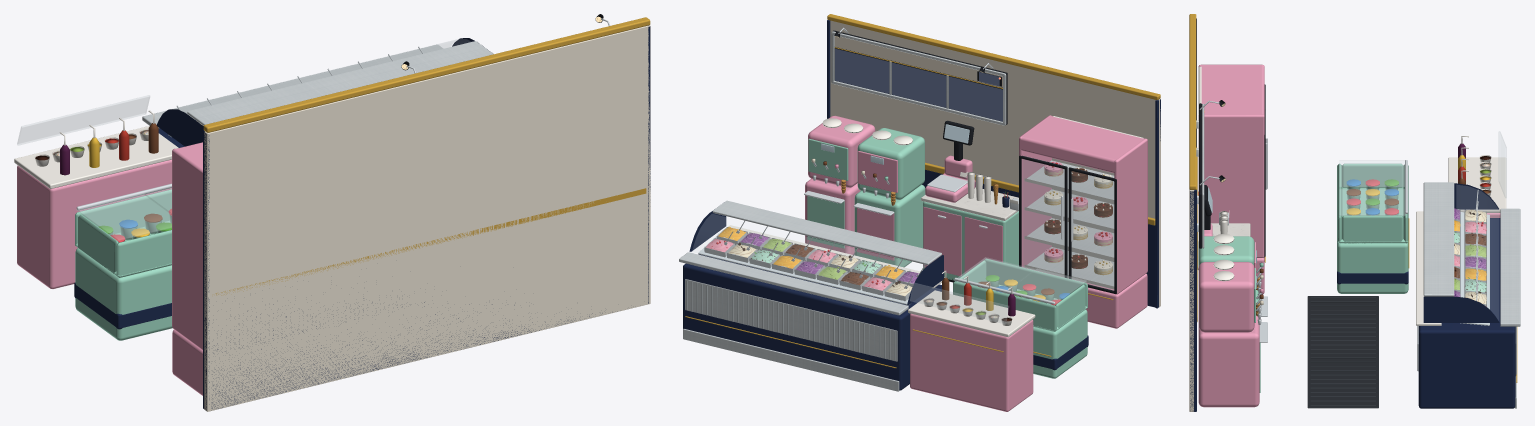
Rendered from sector-sorvetes_T3.fbx.
The picture shows the model from 3 angles, left to right: view 1: azimuth 30°, elevation 25°; view 2: azimuth 150°, elevation 25°; view 3: azimuth 270°, elevation 25°; orthographic projection. The views are drawn at different scales.
Parts seen in each view (by area): view 1: Back Wall, Body; view 2: Body, Back Wall, Wall Dressing; view 3: Body, Back Wall, Wall Dressing.
Part boxes in pixels (x1,y1,x2,y2): Back Wall: (203, 17, 650, 411); Body: (14, 38, 493, 395); Body: (679, 115, 1147, 411); Back Wall: (827, 14, 1160, 308); Wall Dressing: (831, 27, 1007, 125); Body: (1197, 64, 1520, 408); Back Wall: (1189, 14, 1197, 411); Wall Dressing: (1196, 100, 1225, 248).
Bounding box in the file's own units: 4 × 2.45 × 3.25.
